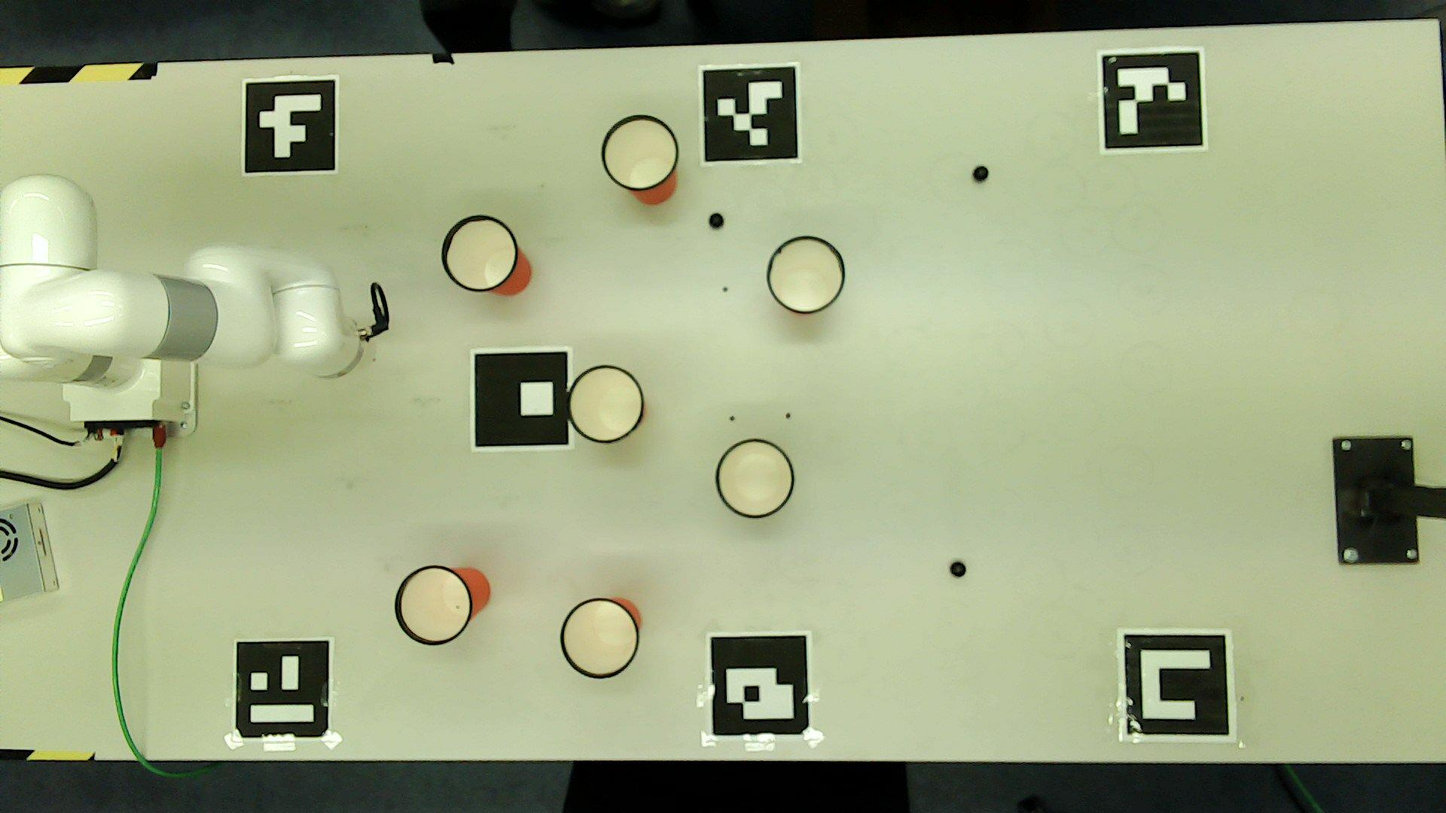ball: (975, 167, 988, 181), (711, 214, 723, 226), (953, 564, 965, 575)
cup: (717, 440, 792, 517), (396, 567, 470, 644), (563, 600, 637, 677), (569, 367, 643, 442), (769, 237, 843, 312), (443, 216, 517, 289), (603, 116, 677, 189)
